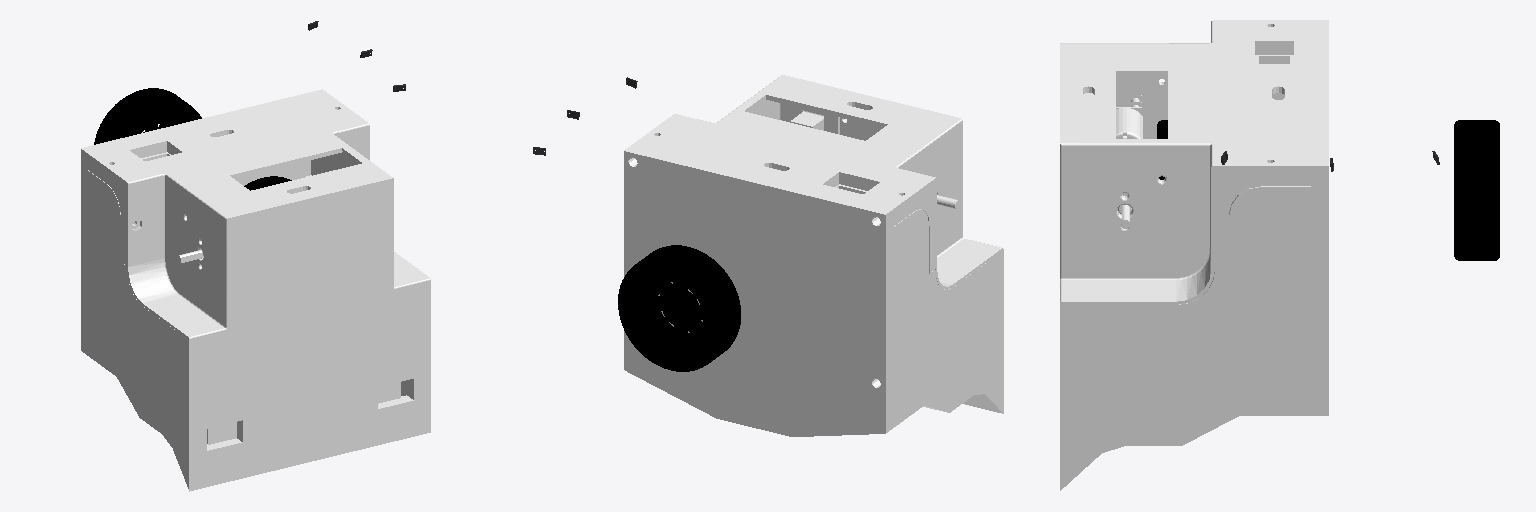
robot.urdf — sumo_robot:
<?xml version="1.0"?>
<robot name="sumo_robot">

  <!-- ============================================================
       BASE FOOTPRINT — corrección de orientación SolidWorks
       ============================================================ -->
  <link name="base_footprint"/>

  <joint name="base_footprint_joint" type="fixed">
    <parent link="base_footprint"/>
    <child link="base_link"/>
    <origin xyz="0 0 0.0075" rpy="0 0 0"/>
  </joint>

  <!-- ============================================================
       BASE LINK — nuevo modelo con mounts de sensores
       ============================================================ -->
  <link name="base_link">
    <inertial>
      <origin xyz="0.0322998137049694 0.000216139452828127 0.024791515465409" rpy="0 0 0"/>
      <mass value="0.229572965520933"/>
      <inertia
        ixx="0.000305395289442272"
        ixy="9.93524369662602E-07"
        ixz="4.20540083841152E-05"
        iyy="0.00019272349997224"
        iyz="1.96163829765704E-08"
        izz="0.000346086554359737"/>
    </inertial>
    <visual>
      <origin xyz="0 0 0" rpy="0 0 0"/>
      <geometry>
        <mesh filename="package://sumo_robot/meshes/base_link.STL"/>
      </geometry>
      <material name="white">
        <color rgba="1.0 1.0 1.0 1"/>
      </material>
    </visual>
    <collision>
      <origin xyz="0 0 0" rpy="0 0 0"/>
      <geometry>
        <mesh filename="package://sumo_robot/meshes/base_link.STL"/>
      </geometry>
    </collision>
  </link>

  <!-- ============================================================
       RUEDA DERECHA
       ============================================================ -->
  <link name="ruedader_Link">
    <inertial>
      <origin xyz="5.30294939181039E-07 3.90347897761198E-05 -0.00397981243668097" rpy="0 0 0"/>
      <mass value="0.00900114044055008"/>
      <inertia
        ixx="1.19029948922833E-06"
        ixy="2.88863350942646E-13"
        ixz="2.5983698962267E-12"
        iyy="1.19029028327058E-06"
        iyz="-8.2998547652045E-12"
        izz="2.17799134379515E-06"/>
    </inertial>
    <visual>
      <origin xyz="0 0 0" rpy="0 0 0"/>
      <geometry>
        <mesh filename="package://sumo_robot/meshes/ruedader_Link.STL"/>
      </geometry>
      <material name="black">
        <color rgba="0.0 0.0 0.0 1"/>
      </material>
    </visual>
    <collision>
      <origin xyz="0 0 0" rpy="0 0 0"/>
      <geometry>
        <mesh filename="package://sumo_robot/meshes/ruedader_Link.STL"/>
      </geometry>
    </collision>
  </link>

  <joint name="ruedader_joint" type="continuous">
    <origin xyz="0.0036812 -0.0465 0.013458" rpy="1.5708 0 0"/>
    <parent link="base_link"/>
    <child link="ruedader_Link"/>
    <axis xyz="0 0 -1"/>
    <limit effort="50" velocity="50"/>
    <dynamics damping="0.1" friction="0.1"/>
  </joint>

  <!-- ============================================================
       RUEDA IZQUIERDA
       ============================================================ -->
  <link name="ruedaizq_Link">
    <inertial>
      <origin xyz="5.30294939179304E-07 3.90347897761233E-05 -0.00397981243668097" rpy="0 0 0"/>
      <mass value="0.00900114044055008"/>
      <inertia
        ixx="1.19029948922832E-06"
        ixy="2.88863351300157E-13"
        ixz="2.59836989622679E-12"
        iyy="1.19029028327058E-06"
        iyz="-8.29985476519136E-12"
        izz="2.17799134379515E-06"/>
    </inertial>
    <visual>
      <origin xyz="0 0 0" rpy="0 0 0"/>
      <geometry>
        <mesh filename="package://sumo_robot/meshes/ruedaizq_Link.STL"/>
      </geometry>
      <material name="black">
        <color rgba="0.0 0.0 0.0 1"/>
      </material>
    </visual>
    <collision>
      <origin xyz="0 0 0" rpy="0 0 0"/>
      <geometry>
        <mesh filename="package://sumo_robot/meshes/ruedaizq_Link.STL"/>
      </geometry>
    </collision>
  </link>

  <joint name="ruedaizq_joint" type="continuous">
    <origin xyz="0.0036812 0.0465 0.013458" rpy="1.5708 0 3.1416"/>
    <parent link="base_link"/>
    <child link="ruedaizq_Link"/>
    <axis xyz="0 0 -1"/>
    <limit effort="50" velocity="50"/>
    <dynamics damping="0.1" friction="0.1"/>
  </joint>

  <!-- ============================================================
       SENSOR CENTRO  →  frame_id: vl53_centro
       ============================================================ -->
  <link name="vl53_centro">
    <inertial>
      <origin xyz="6.12187504926611E-06 4.42183997750867E-11 -0.000187238454517416" rpy="0 0 0"/>
      <mass value="1.65901982165976E-06"/>
      <inertia
        ixx="1.14371161666928E-12"
        ixy="3.94375960501325E-18"
        ixz="1.86470722892683E-15"
        iyy="3.70756970225522E-12"
        iyz="-3.79354671952524E-21"
        izz="4.71394121149585E-12"/>
    </inertial>
    <visual>
      <origin xyz="0 0 0" rpy="0 0 0"/>
      <geometry>
        <mesh filename="package://sumo_robot/meshes/sensorcentro_Link.STL"/>
      </geometry>
      <material name="dark_gray">
        <color rgba="0.231 0.231 0.231 1"/>
      </material>
    </visual>
    <collision>
      <origin xyz="0 0 0" rpy="0 0 0"/>
      <geometry>
        <mesh filename="package://sumo_robot/meshes/sensorcentro_Link.STL"/>
      </geometry>
    </collision>
  </link>

  <joint name="vl53_centro_joint" type="fixed">
    <origin xyz="0.067284 0.00056819 0.051217" rpy="1.7453 0 0"/>
    <parent link="base_link"/>
    <child link="vl53_centro"/>
  </joint>

  <!-- ============================================================
       SENSOR DERECHO  →  frame_id: vl53_der
       ============================================================ -->
  <link name="vl53_der">
    <inertial>
      <origin xyz="6.12186771427325E-06 4.2837573765997E-11 -0.000187238449454334" rpy="0 0 0"/>
      <mass value="1.65901978024444E-06"/>
      <inertia
        ixx="1.14371157981122E-12"
        ixy="3.95850414132292E-18"
        ixz="1.86470863885285E-15"
        iyy="3.70756967213499E-12"
        iyz="-2.95115353657109E-21"
        izz="4.71394114033574E-12"/>
    </inertial>
    <visual>
      <origin xyz="0 0 0" rpy="0 0 0"/>
      <geometry>
        <mesh filename="package://sumo_robot/meshes/sensorder_Link.STL"/>
      </geometry>
      <material name="dark_gray">
        <color rgba="0.231 0.231 0.231 1"/>
      </material>
    </visual>
    <collision>
      <origin xyz="0 0 0" rpy="0 0 0"/>
      <geometry>
        <mesh filename="package://sumo_robot/meshes/sensorder_Link.STL"/>
      </geometry>
    </collision>
  </link>

  <joint name="vl53_der_joint" type="fixed">
    <origin xyz="0.062963 -0.029939 0.051217" rpy="1.7453 0 -0.2618"/>
    <parent link="base_link"/>
    <child link="vl53_der"/>
  </joint>

  <!-- ============================================================
       SENSOR IZQUIERDO  →  frame_id: vl53_izq
       ============================================================ -->
  <link name="vl53_izq">
    <inertial>
      <origin xyz="6.12187990527147E-06 4.31333198325223E-11 -0.000187238449445723" rpy="0 0 0"/>
      <mass value="1.65901978015762E-06"/>
      <inertia
        ixx="1.1437115797384E-12"
        ixy="3.95852534260894E-18"
        ixz="1.86470652643207E-15"
        iyy="3.70756967241395E-12"
        iyz="-2.98591173255353E-21"
        izz="4.71394114055092E-12"/>
    </inertial>
    <visual>
      <origin xyz="0 0 0" rpy="0 0 0"/>
      <geometry>
        <mesh filename="package://sumo_robot/meshes/sensorizq_Link.STL"/>
      </geometry>
      <material name="dark_gray">
        <color rgba="0.231 0.231 0.231 1"/>
      </material>
    </visual>
    <collision>
      <origin xyz="0 0 0" rpy="0 0 0"/>
      <geometry>
        <mesh filename="package://sumo_robot/meshes/sensorizq_Link.STL"/>
      </geometry>
    </collision>
  </link>

  <joint name="vl53_izq_joint" type="fixed">
    <origin xyz="0.062889 0.030215 0.051217" rpy="1.7453 0 0.2618"/>
    <parent link="base_link"/>
    <child link="vl53_izq"/>
  </joint>

  <!-- ============================================================
       PLUGIN GAZEBO DIFF DRIVE
       ============================================================ -->
  <gazebo>
    <plugin name="diff_drive_controller" filename="libgazebo_ros_diff_drive.so">
      <ros>
        <namespace>/sumo</namespace>
        <remapping>cmd_vel:=cmd_vel_real</remapping>
        <remapping>odom:=odom</remapping>
      </ros>
      <left_joint>ruedader_joint</left_joint>
      <right_joint>ruedaizq_joint</right_joint>
      <wheel_separation>0.0930</wheel_separation>
      <wheel_diameter>0.042</wheel_diameter>
      <max_wheel_torque>50</max_wheel_torque>
      <max_wheel_acceleration>20.0</max_wheel_acceleration>
      <publish_odom>true</publish_odom>
      <publish_odom_tf>true</publish_odom_tf>
      <publish_wheel_tf>true</publish_wheel_tf>
      <odometry_frame>odom</odometry_frame>
      <robot_base_frame>base_footprint</robot_base_frame>
    </plugin>
  </gazebo>

  <!-- ============================================================
       FRICCIÓN DE RUEDAS EN GAZEBO
       ============================================================ -->
  <gazebo reference="ruedaizq_Link">
    <mu1>2.0</mu1>
    <mu2>2.0</mu2>
    <kp>1000000.0</kp>
    <kd>1.0</kd>
    <minDepth>0.001</minDepth>
  </gazebo>
  <gazebo reference="ruedader_Link">
    <mu1>2.0</mu1>
    <mu2>2.0</mu2>
    <kp>1000000.0</kp>
    <kd>1.0</kd>
    <minDepth>0.001</minDepth>
  </gazebo>

  <!-- ============================================================
       MATERIALES GAZEBO
       ============================================================ -->
  <gazebo reference="base_link">
    <material>Gazebo/White</material>
  </gazebo>
  <gazebo reference="ruedaizq_Link">
    <material>Gazebo/Black</material>
  </gazebo>
  <gazebo reference="ruedader_Link">
    <material>Gazebo/Black</material>
  </gazebo>
  <gazebo reference="vl53_centro">
    <material>Gazebo/DarkGrey</material>
  </gazebo>
  <gazebo reference="vl53_der">
    <material>Gazebo/DarkGrey</material>
  </gazebo>
  <gazebo reference="vl53_izq">
    <material>Gazebo/DarkGrey</material>
  </gazebo>

</robot>

--- Render facts (derived) ---
Views: 3 orthographic renders of the robot side by side, from view 1: azimuth 30°, elevation 25°; view 2: azimuth 150°, elevation 25°; view 3: azimuth 270°, elevation 25°.
Robot: sumo_robot — 7 links, 6 joints (2 continuous, 4 fixed); root link base_footprint; default pose: every joint at zero.
Links seen in each view (by area): view 1: base_link, ruedaizq_Link; view 2: base_link, ruedaizq_Link; view 3: base_link, ruedaizq_Link.
Boxes of the visible links, x1,y1,x2,y2 form: base_link: [81, 89, 430, 491]; ruedaizq_Link: [94, 88, 201, 144]; base_link: [624, 75, 1003, 436]; ruedaizq_Link: [618, 245, 740, 371]; base_link: [1060, 20, 1328, 490]; ruedaizq_Link: [1454, 120, 1499, 260].
Bounding box of the posed robot: 0.1185 × 0.125 × 0.1123 m (x, y, z).
6 mesh visuals loaded from 6 distinct referenced files (6 binary STL).
